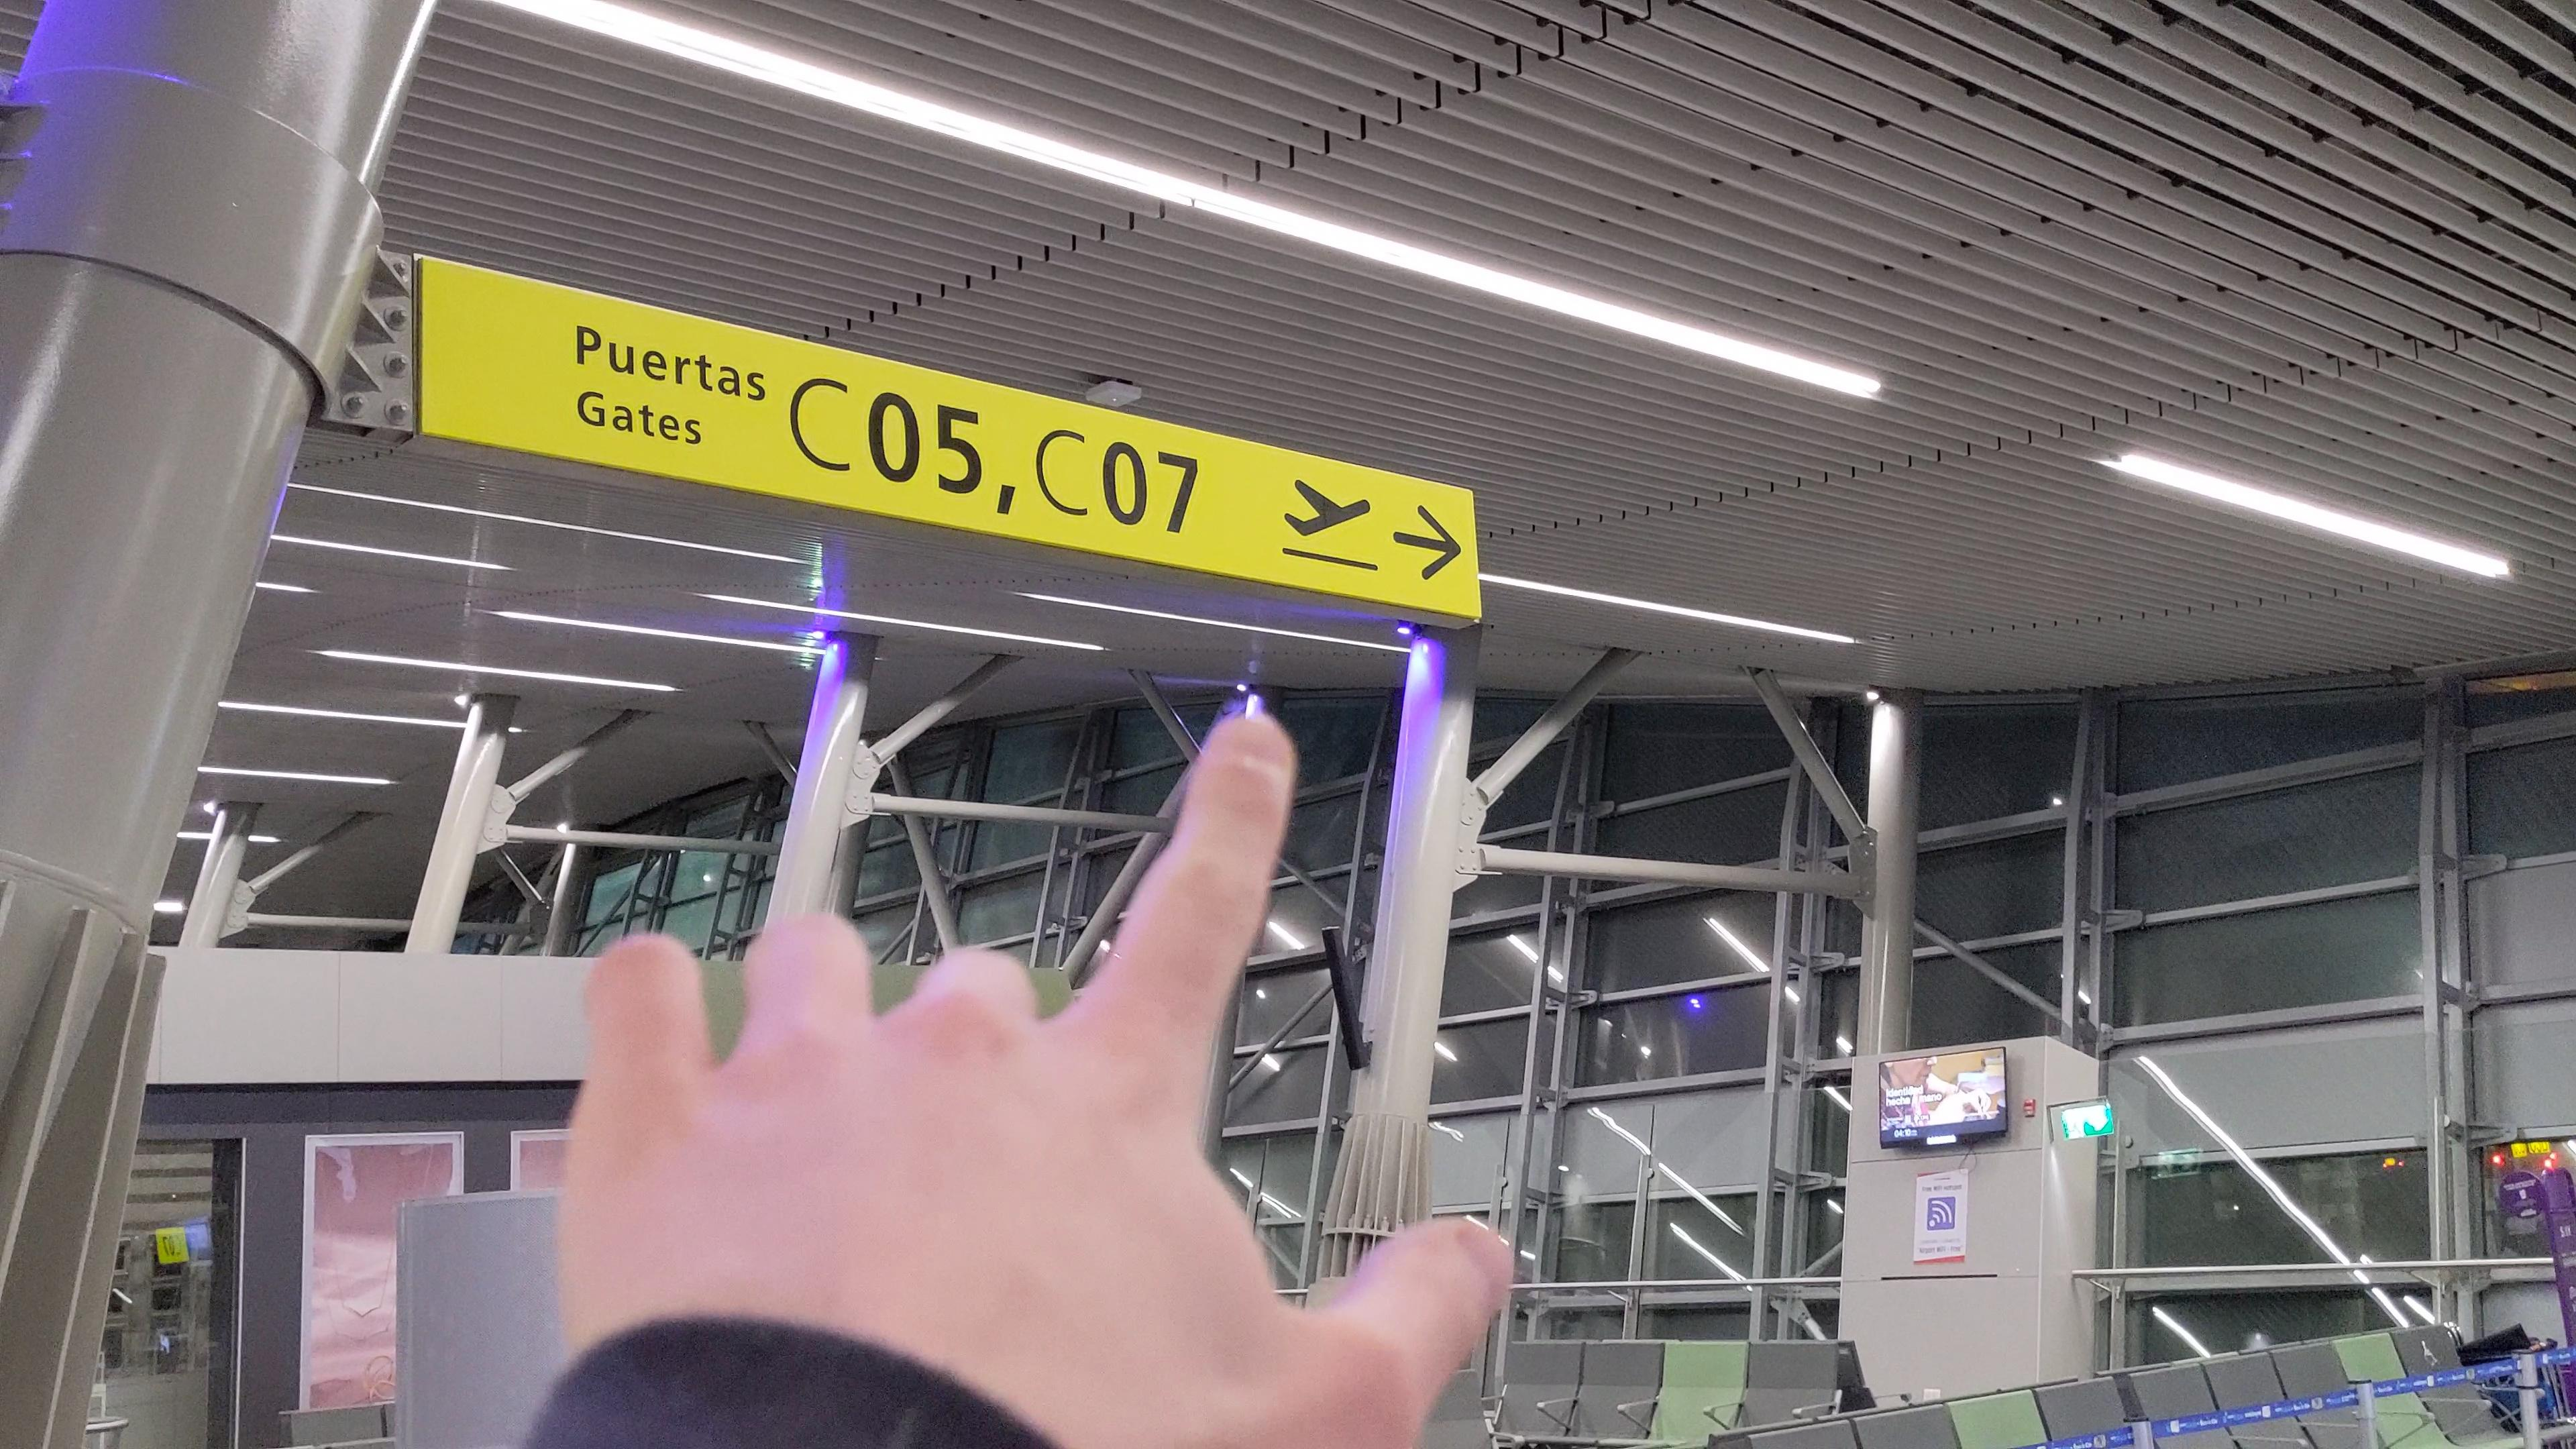airplane symbol: (1279, 467, 1385, 543)
thin right arrow: (1389, 499, 1461, 586)
